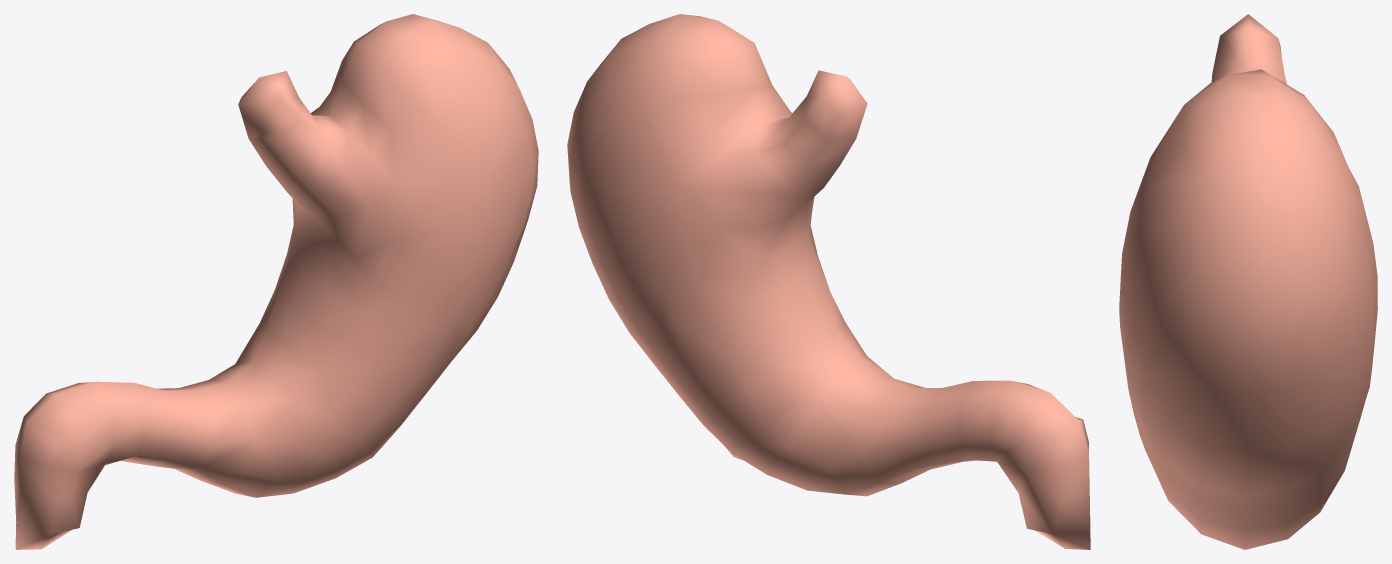
File: jeludok_low_glb.gltf
The picture shows the model from 3 angles, left to right: view 1: azimuth 30°, elevation 25°; view 2: azimuth 150°, elevation 25°; view 3: azimuth 270°, elevation 25°; orthographic projection. The views are drawn at different scales.
Visible parts, largest first — view 1: желудок; view 2: желудок; view 3: желудок.
Part boxes in pixels (<box>): желудок: <box>14,14,538,549</box>; желудок: <box>567,14,1090,549</box>; желудок: <box>1119,14,1377,549</box>.
Size of the model in its own units: 8.2 by 6.69 by 3.
1 material, 1 textured.
